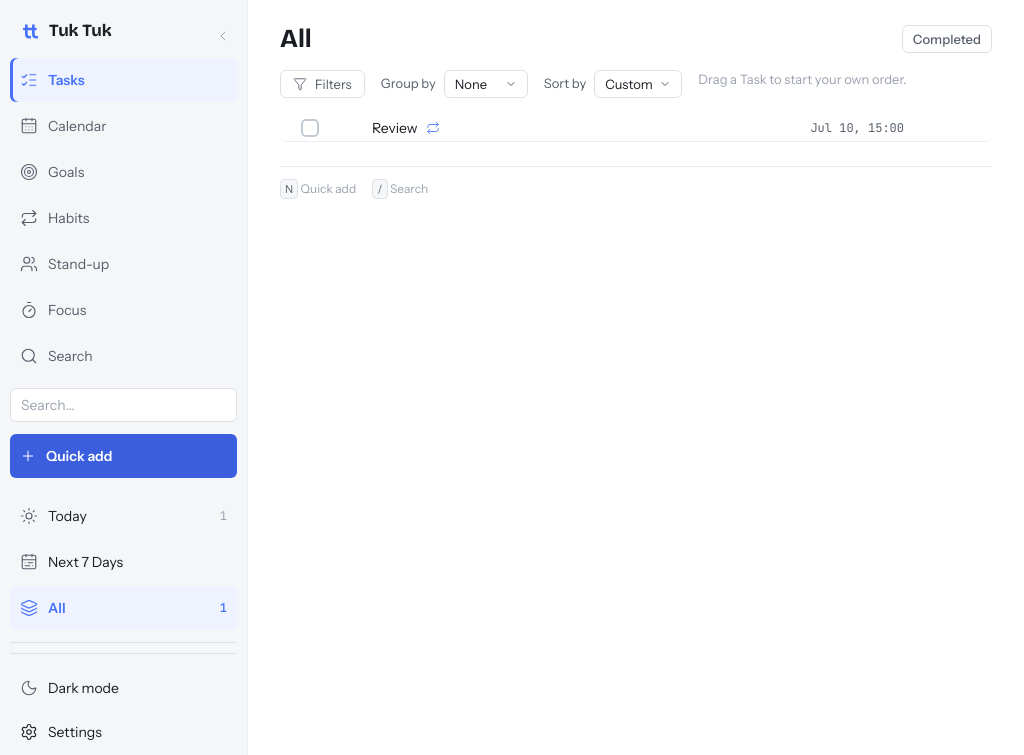
Test: Recurrence in the detail panel › editing opens the editor primed with the stored rule
Click the button "Review": click(490, 128) [372, 119, 608, 137]
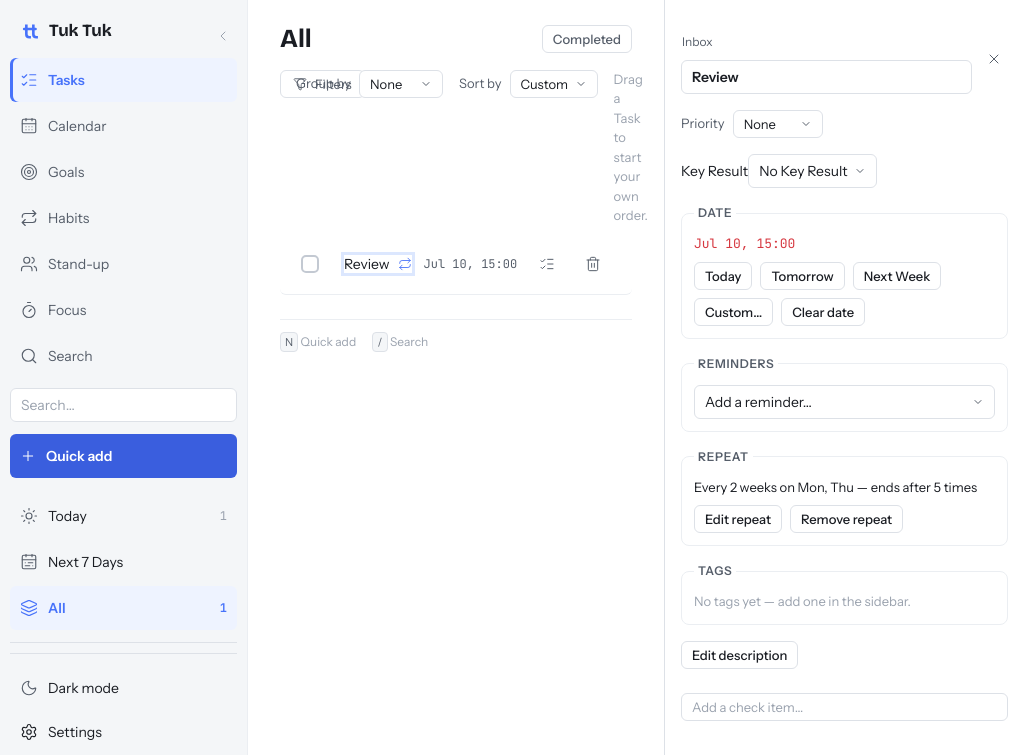
Click the button "Edit repeat": click(738, 519) [694, 505, 782, 533]
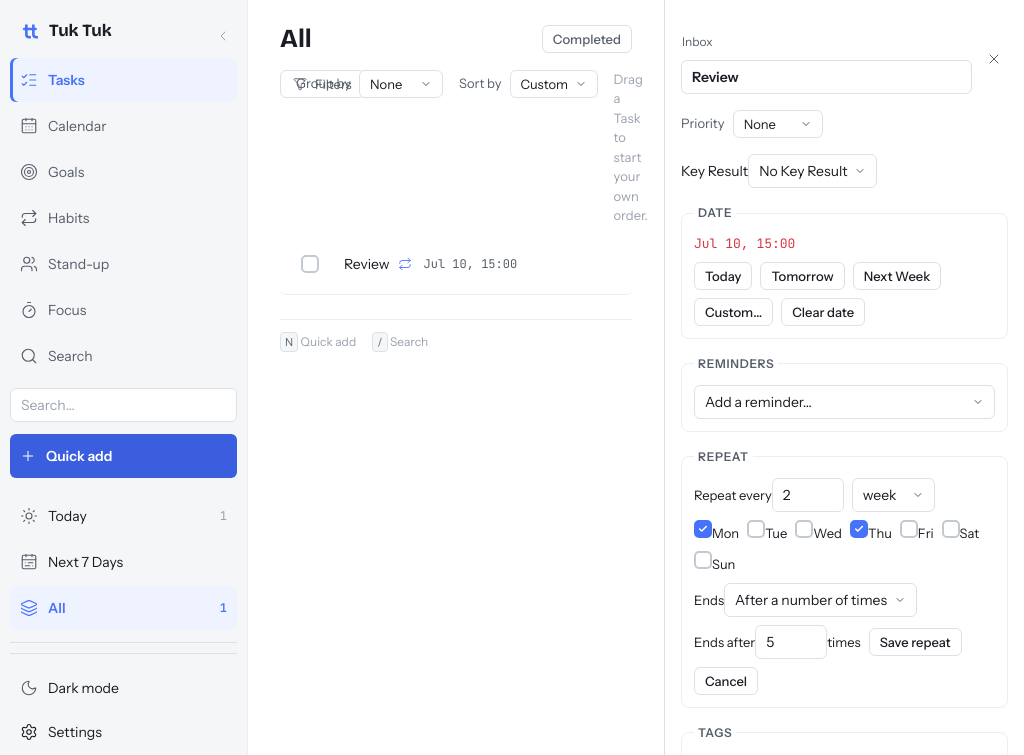
Result: the dropdown named "Frequency" shows "week" at [852, 478, 935, 512]
Result: the number field labelled "Repeat every" holds "2" at [772, 478, 844, 512]
Result: the checkbox named "Repeat on Mon" is checked at [694, 520, 712, 538]
